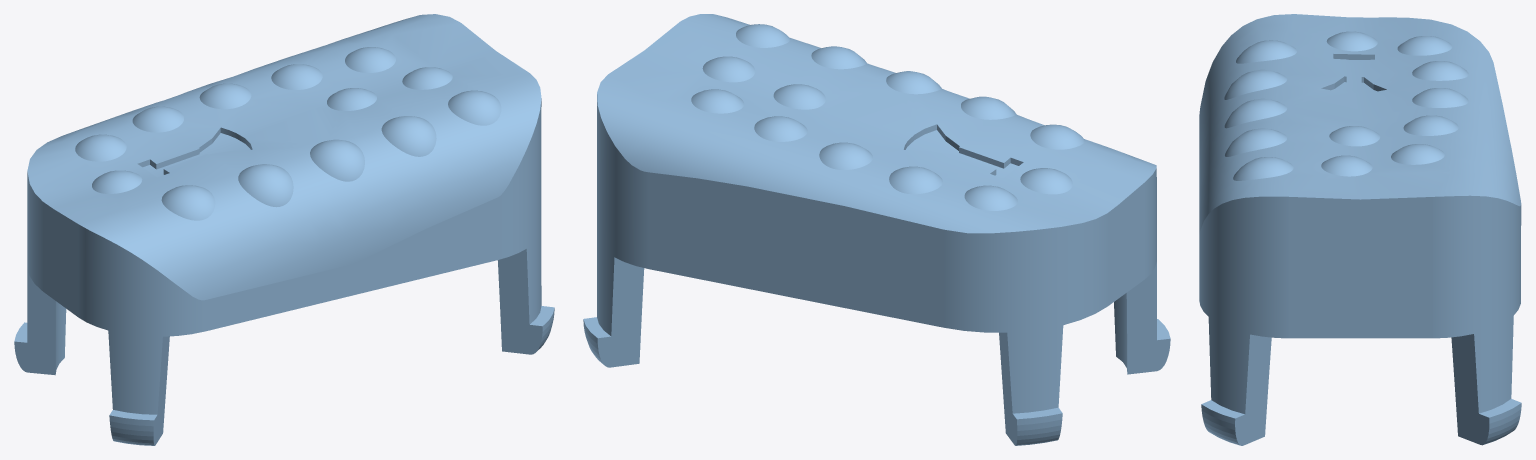
3 renders of one model, left to right at view 1: azimuth 30°, elevation 25°; view 2: azimuth 150°, elevation 25°; view 3: azimuth 270°, elevation 25°, orthographic. The views are drawn at different scales.
Parts seen in each view (by area): view 1: part_0; view 2: part_0; view 3: part_0.
Boxes of the visible parts, x1,y1,x2,y2 form: part_0: [14, 14, 554, 445]; part_0: [583, 14, 1170, 445]; part_0: [1199, 14, 1521, 445].
Size of the model in its own units: 38.92 by 20.53 by 23.32.
